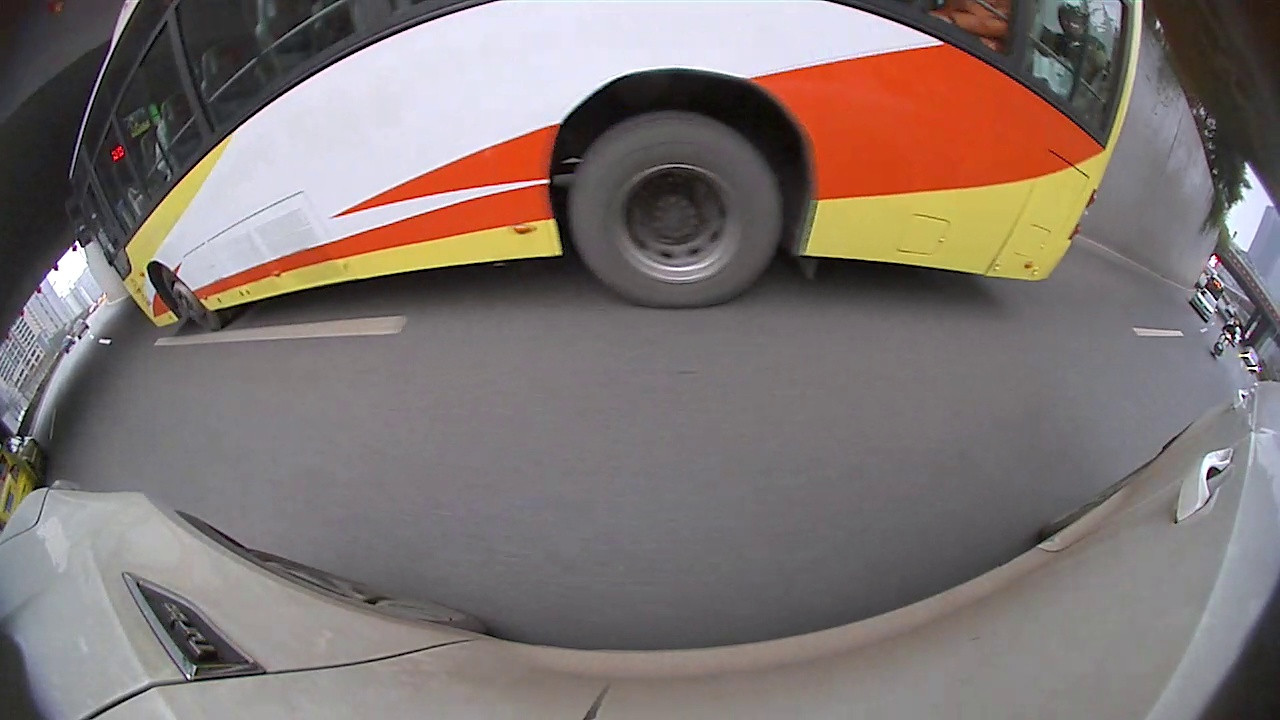bus: (794, 129, 867, 195)
car: (943, 157, 1277, 440), (282, 118, 515, 273), (1, 346, 134, 496), (39, 264, 193, 358), (745, 154, 836, 210), (517, 148, 575, 198)
front: (957, 230, 1026, 312), (497, 189, 515, 222)
rear: (410, 209, 446, 260)
truck: (543, 0, 805, 218)
